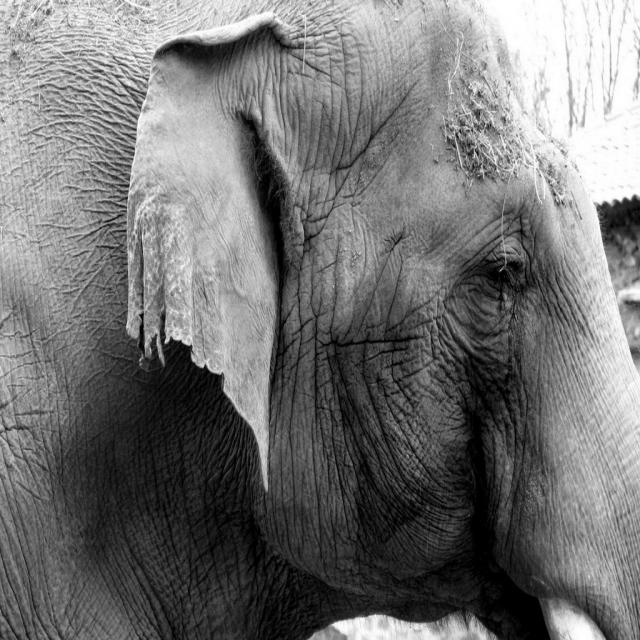Elephant: (51, 10, 629, 640)
